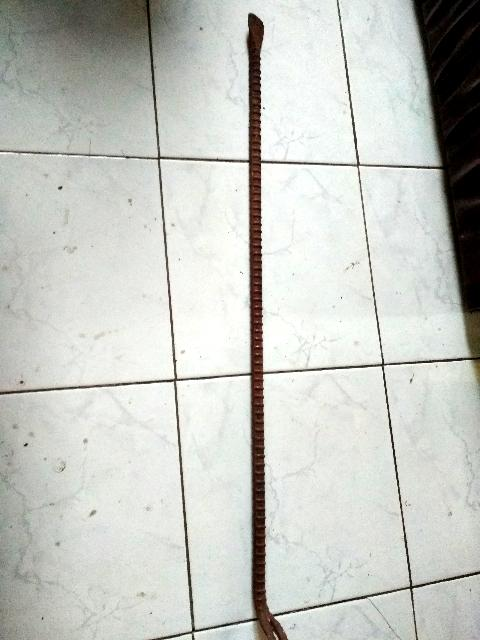crow bar: (245, 11, 298, 640)
